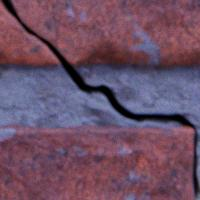brick: (0, 123, 192, 199)
broken_brick: (10, 0, 199, 64), (0, 0, 59, 64)
crack: (1, 0, 199, 199)
